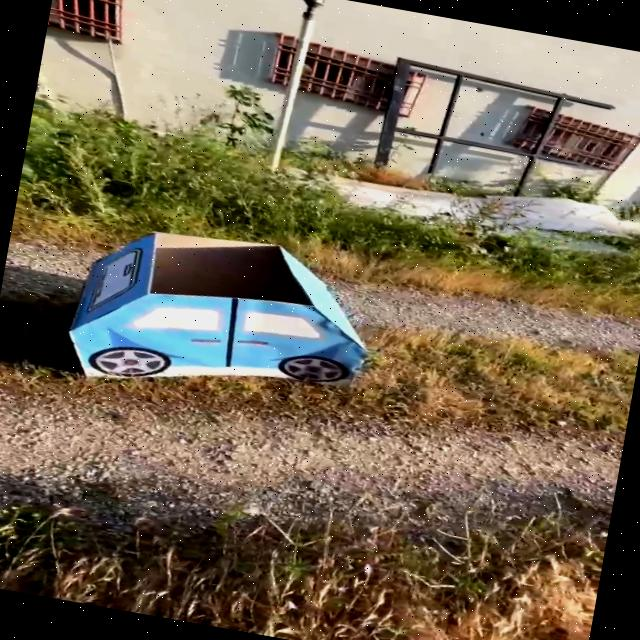blue_car: (0, 188, 424, 448)
